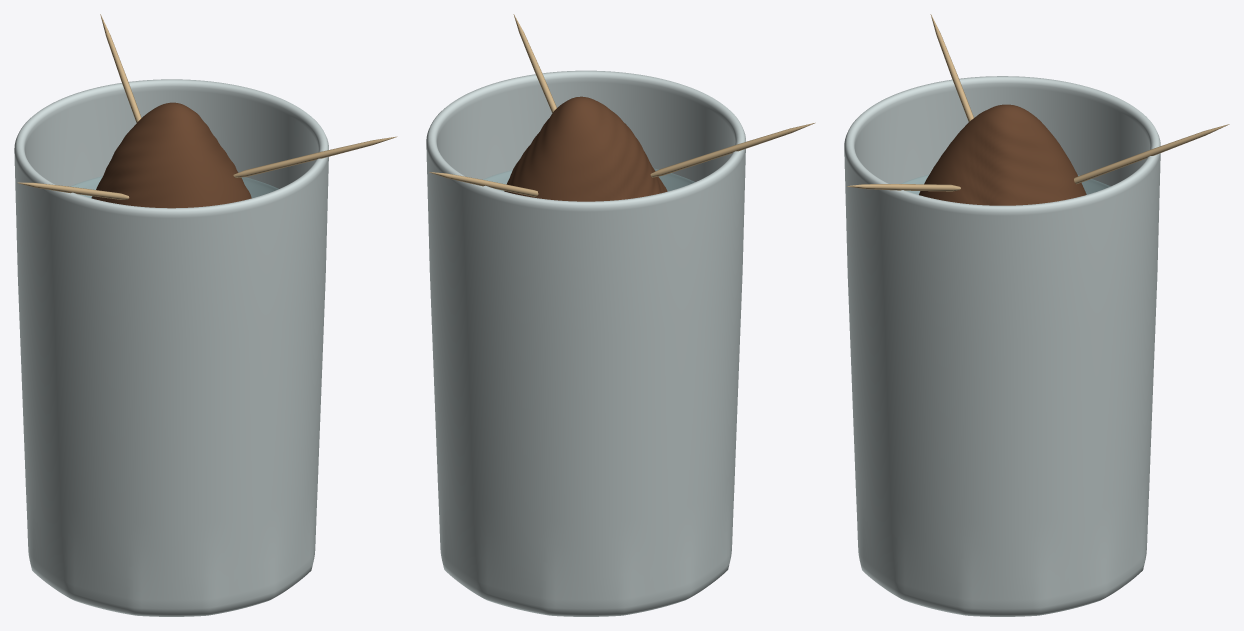
File: seed.glb
3 renders of one model, left to right at view 1: azimuth 30°, elevation 25°; view 2: azimuth 150°, elevation 25°; view 3: azimuth 270°, elevation 25°, orthographic.
Parts seen in each view (by area): view 1: Стакан · венчик и гранёное дно, Целая косточка, Зубочистка.002, Зубочистка.001, Зубочистка, Вода; view 2: Стакан · венчик и гранёное дно, Целая косточка, Зубочистка.001, Зубочистка, Зубочистка.002, Вода; view 3: Стакан · венчик и гранёное дно, Целая косточка, Зубочистка, Зубочистка.002, Зубочистка.001.
Boxes of the visible parts, x1,y1,x2,y2 form: Стакан · венчик и гранёное дно: (14,79,328,616); Целая косточка: (91,102,251,208); Зубочистка.002: (233,136,397,177); Зубочистка.001: (17,182,129,199); Зубочистка: (100,14,141,122); Вода: (70,176,278,197); Стакан · венчик и гранёное дно: (426,70,745,616); Целая косточка: (504,96,667,201); Зубочистка.001: (650,122,815,177); Зубочистка: (429,172,538,196); Зубочистка.002: (513,14,556,112); Вода: (483,169,694,191); Стакан · венчик и гранёное дно: (844,76,1160,616); Целая косточка: (919,104,1086,205); Зубочистка: (1074,124,1229,184); Зубочистка.002: (847,184,960,191); Зубочистка.001: (930,14,973,121).
Size of the model in its own units: 0.0932 by 0.1197 by 0.0913.
